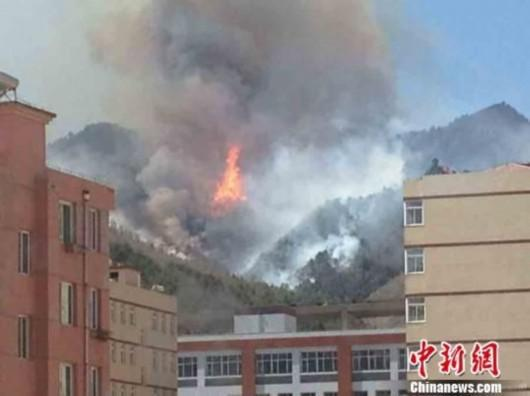fire: (215, 149, 251, 211)
